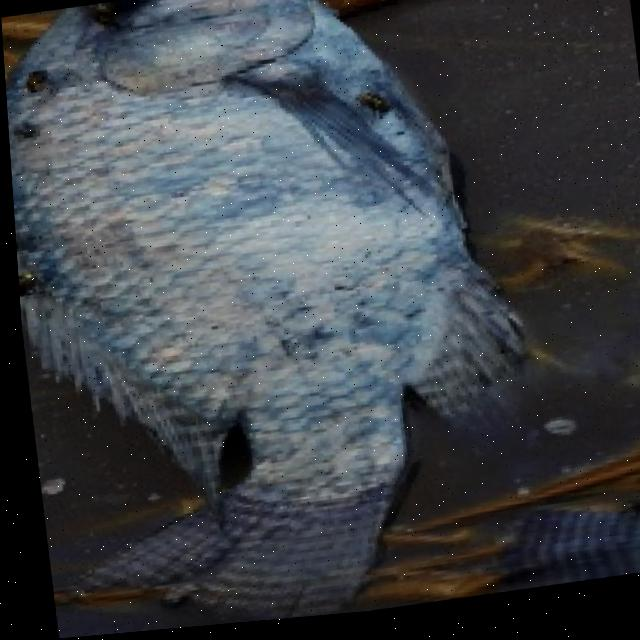Non-Fresh: (0, 0, 468, 619)
